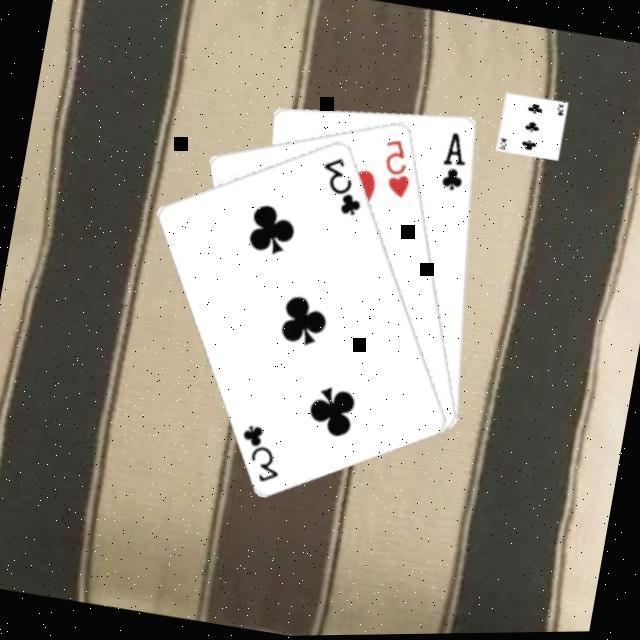3C: (313, 149, 373, 220), (232, 417, 291, 487)
5H: (375, 133, 421, 201)
AC: (436, 126, 475, 194)
